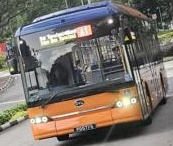bus: (75, 23, 92, 38)
